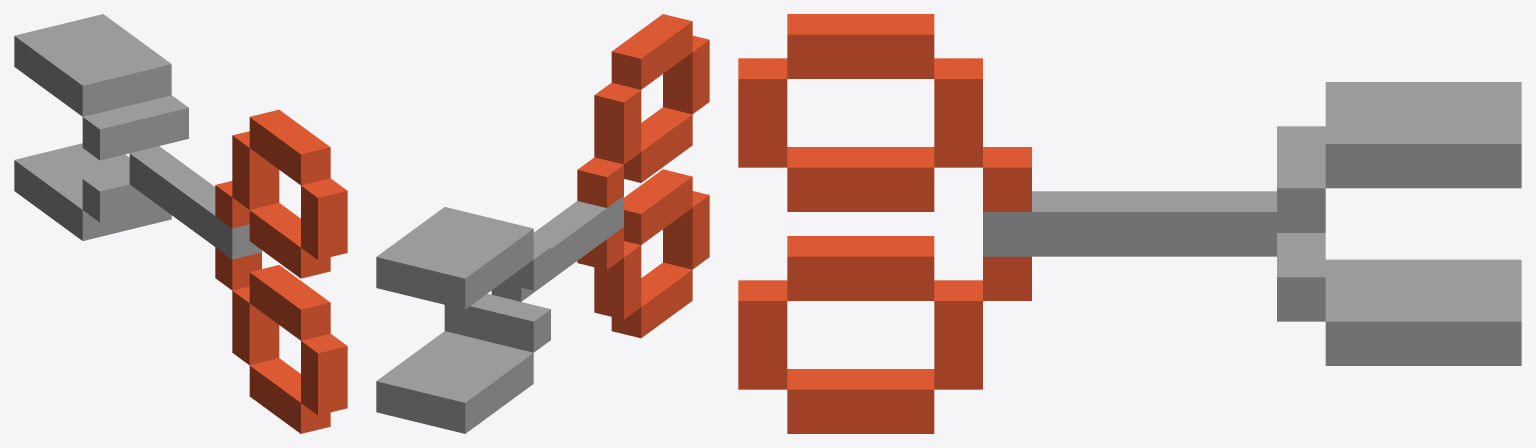
File: Scissors_Fire.fbx
3 renders of one model, left to right at view 1: azimuth 30°, elevation 25°; view 2: azimuth 150°, elevation 25°; view 3: azimuth 270°, elevation 25°, orthographic. The views are drawn at different scales.
Parts seen in each view (by area): view 1: Scissors_Fire:Scissors_Fire; view 2: Scissors_Fire:Scissors_Fire; view 3: Scissors_Fire:Scissors_Fire.
Boxes of the visible parts, <box> form: Scissors_Fire:Scissors_Fire: <box>14,14,347,433</box>; Scissors_Fire:Scissors_Fire: <box>376,14,709,433</box>; Scissors_Fire:Scissors_Fire: <box>738,14,1521,433</box>.
Bounding box in the file's own units: 3 × 9 × 16.
